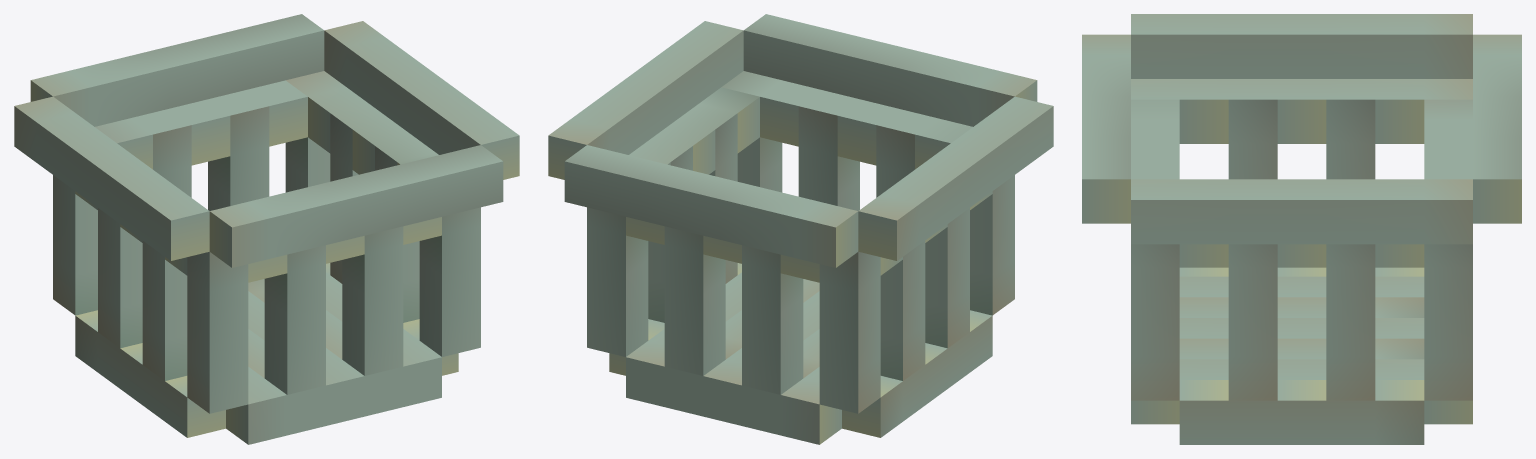
File: EmptyBasket_02.fbx
The picture shows the model from 3 angles, left to right: view 1: azimuth 30°, elevation 25°; view 2: azimuth 150°, elevation 25°; view 3: azimuth 270°, elevation 25°; orthographic projection. The views are drawn at different scales.
Visible parts, largest first — view 1: EmptyBasket_02; view 2: EmptyBasket_02; view 3: EmptyBasket_02.
Boxes of the visible parts, left/top/right/bottom form: EmptyBasket_02: left=14, top=14, right=519, bottom=444; EmptyBasket_02: left=548, top=14, right=1053, bottom=444; EmptyBasket_02: left=1082, top=14, right=1521, bottom=444.
Bounding box in the file's own units: 45 × 45 × 30.
1 material, 1 textured.
